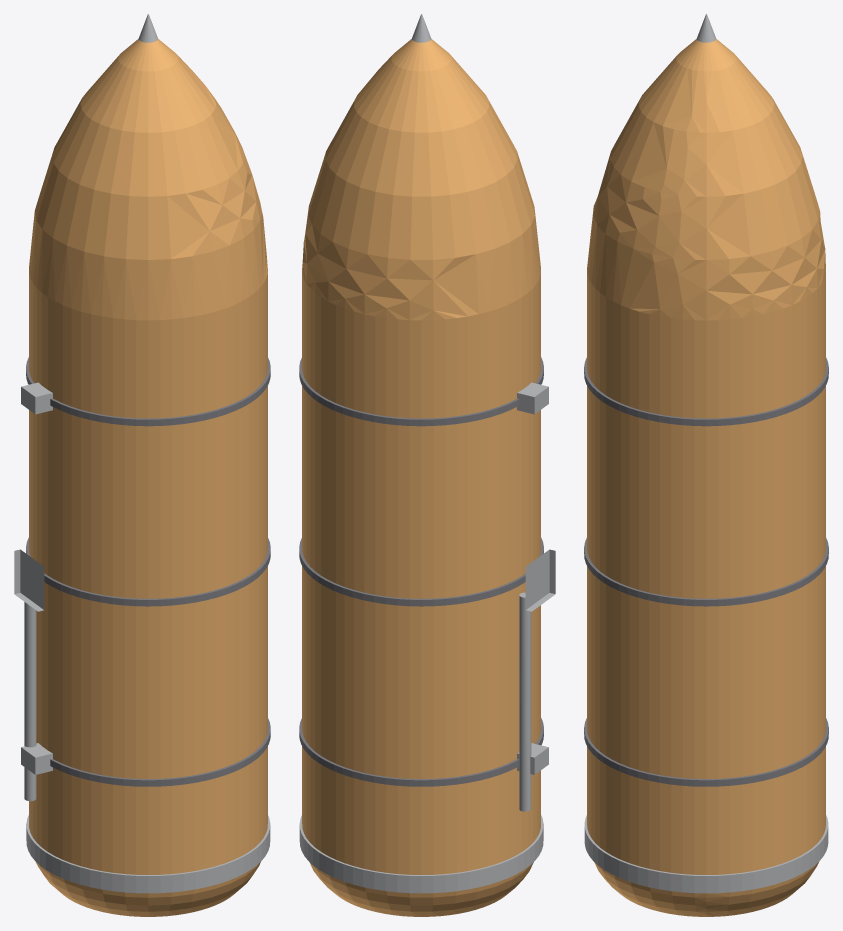
The model's file is tank07_drop_tank_m.glb.
The picture shows the model from 3 angles, left to right: view 1: azimuth 30°, elevation 25°; view 2: azimuth 150°, elevation 25°; view 3: azimuth 270°, elevation 25°; orthographic projection.
Parts seen in each view (by area): view 1: tank, straps, fittings, aft_ring; view 2: tank, straps, fittings, aft_ring; view 3: tank, straps, aft_ring.
Part boxes in pixels (x1,y1,x2,y2): tank: (29, 39, 267, 916); straps: (26, 357, 270, 786); fittings: (14, 382, 52, 801); aft_ring: (26, 815, 270, 893); tank: (302, 39, 540, 916); straps: (299, 357, 543, 786); fittings: (517, 382, 555, 811); aft_ring: (299, 815, 543, 893); tank: (587, 39, 825, 916); straps: (584, 357, 828, 786); aft_ring: (584, 815, 828, 893).
Bounding box in the file's own units: 2.75 × 9.95 × 2.56.
